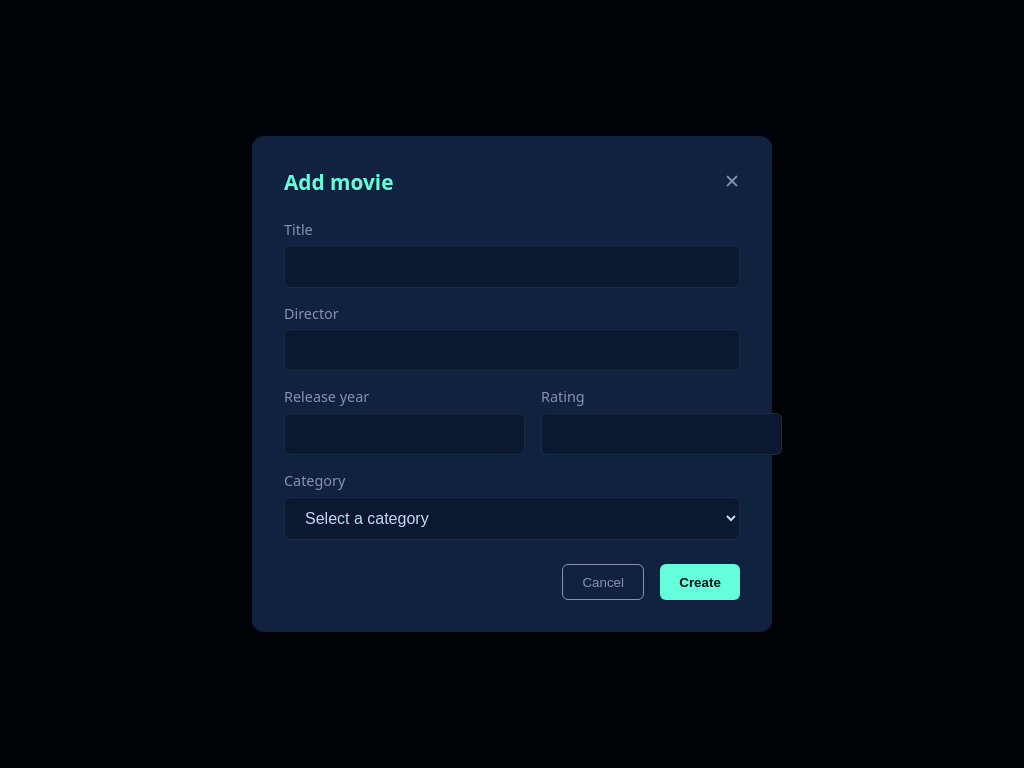
Test: MovieForm › affiche les erreurs si on soumet un formulaire vide
Click the button "Create" at (700,582), box [660, 564, 740, 600]
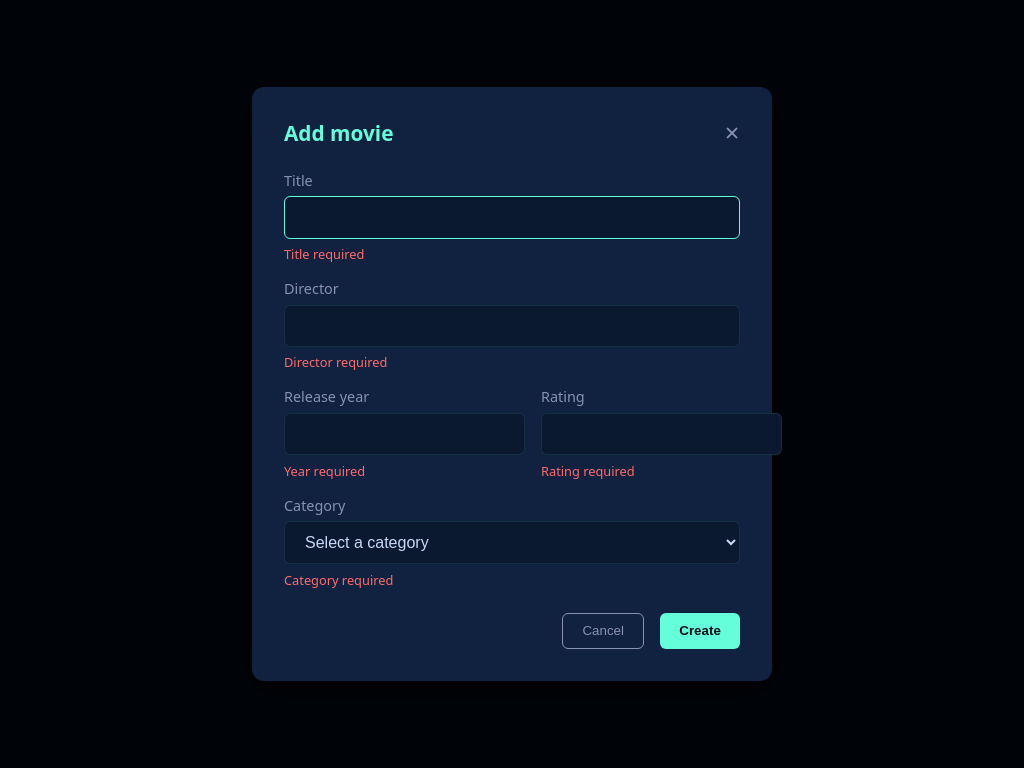
Expected: the text "Title required" is shown, [284, 245, 364, 263]
Expected: the text "Director required" is shown, [284, 353, 388, 371]
